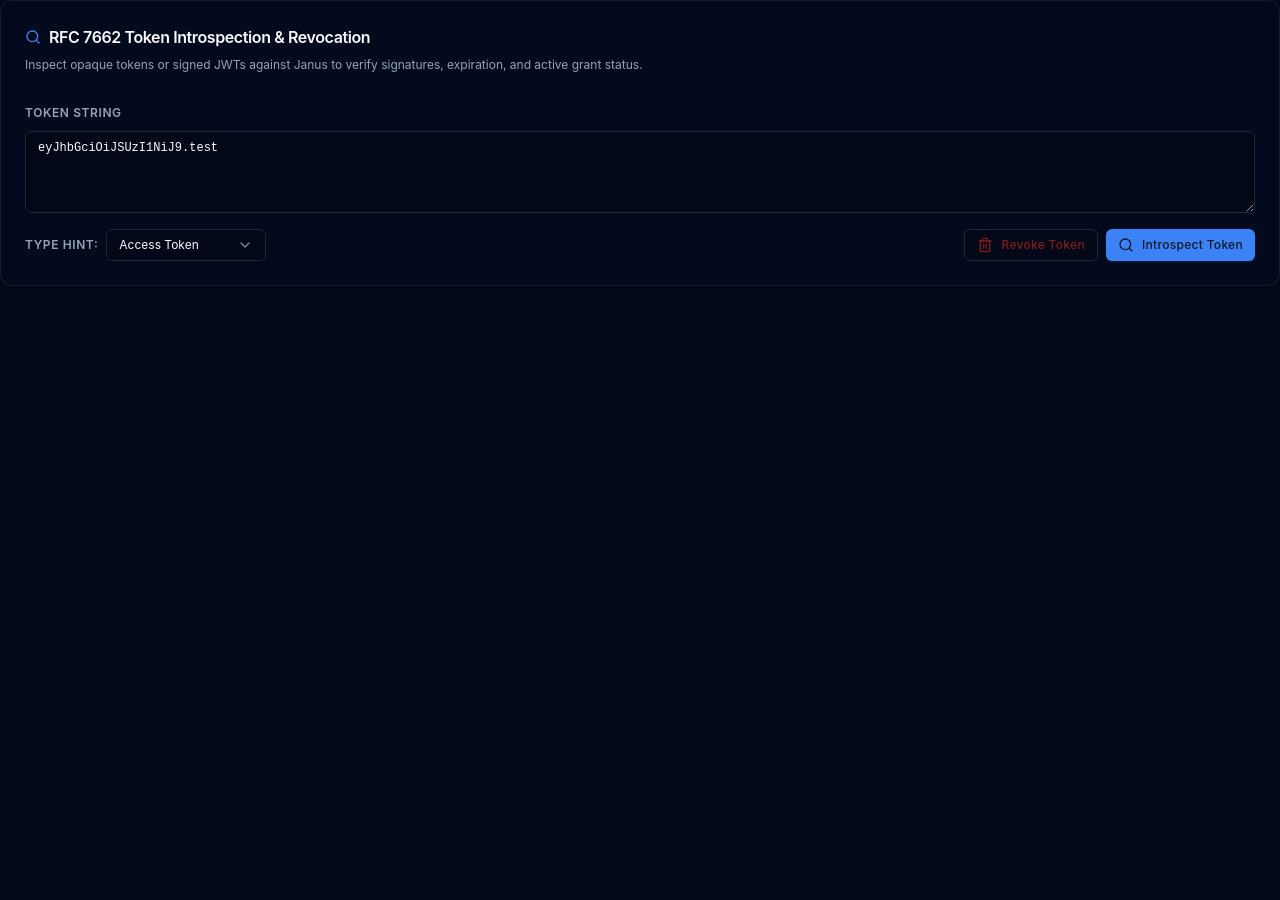
Scenario: OAuth2 UI Components › TokenInspector › renders input and performs introspection
Expected: the heading "RFC 7662 Token Introspection & Revocation" is shown, top-left (25, 27), bottom-right (370, 47)
Click the button "Introspect Token". click: (1180, 244)
box: top-left (1106, 228), bottom-right (1255, 260)
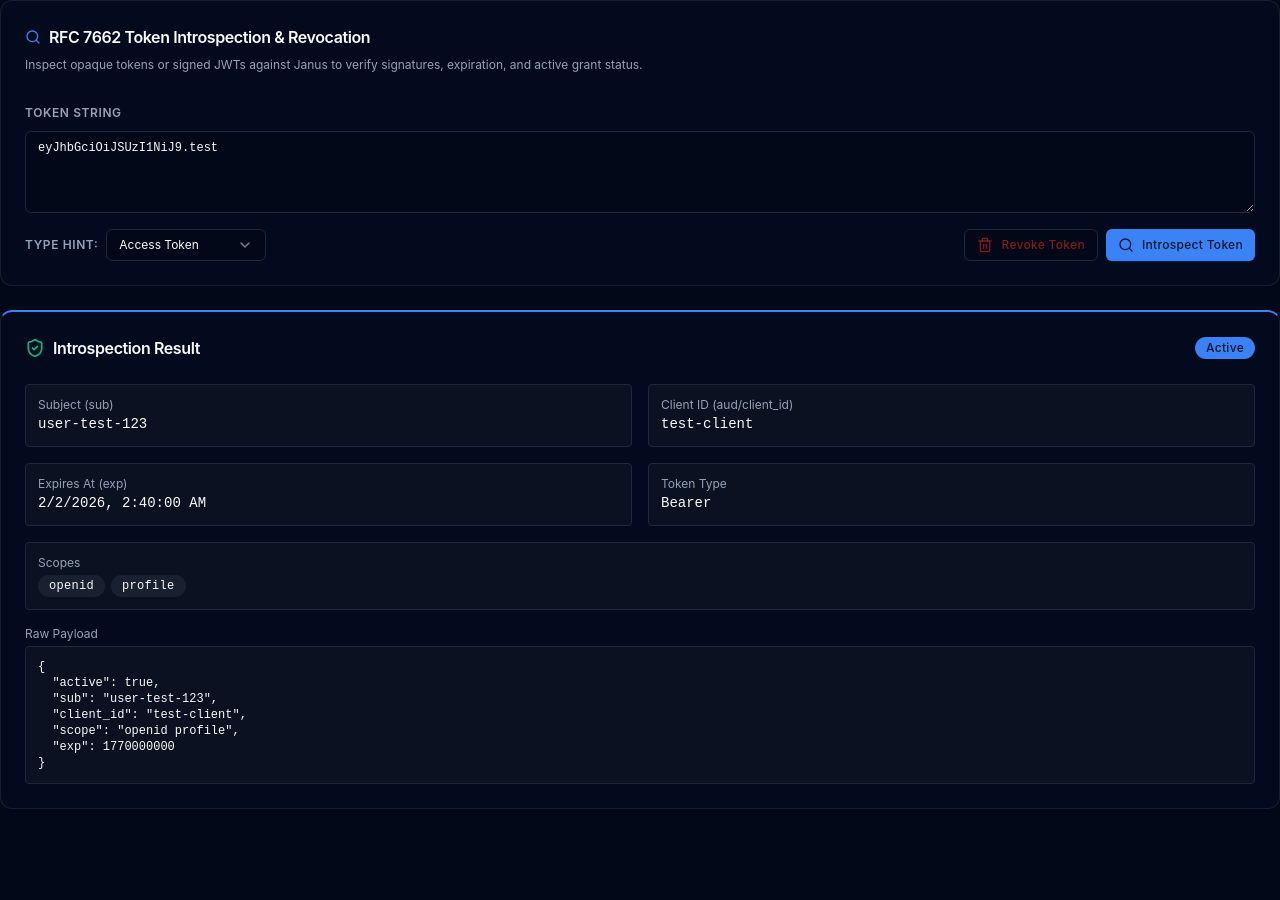
Result: the heading "Introspection Result" is shown at top-left (25, 336), bottom-right (200, 360)
